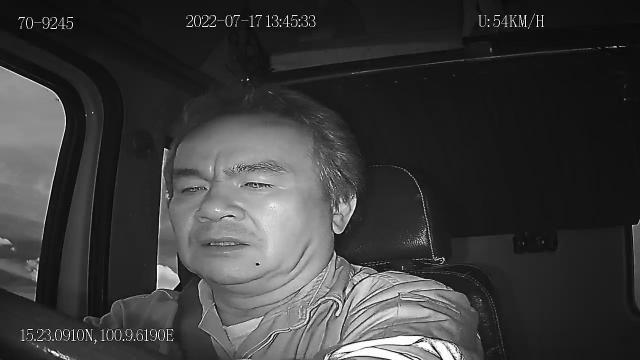SafeDriving: (232, 168, 284, 196), (171, 172, 212, 202)
Seatbelt: (172, 276, 222, 360)
